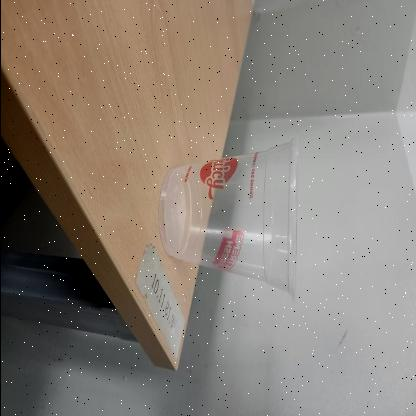Others: (157, 136, 300, 304)
